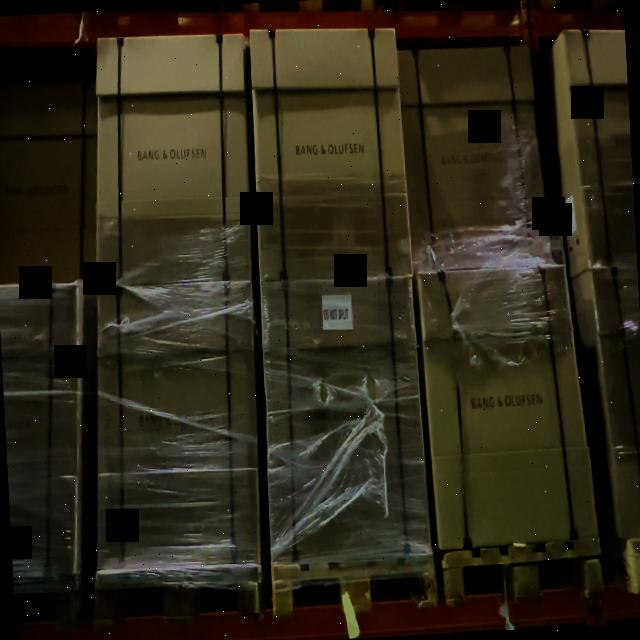box: (99, 283, 262, 575), (260, 278, 426, 564), (424, 276, 580, 546), (252, 25, 407, 280), (97, 36, 251, 285), (405, 45, 543, 272)
